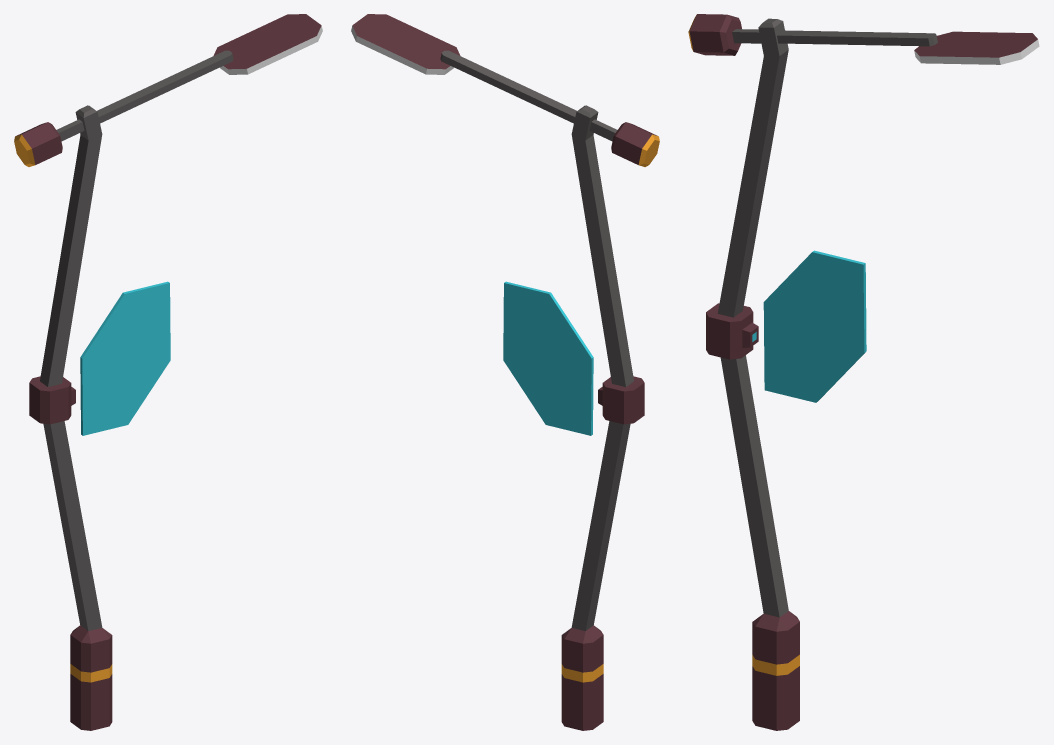
File: scifi-lamp-road-hologram.fbx
3 views of the same model, side by side, from view 1: azimuth 30°, elevation 25°; view 2: azimuth 150°, elevation 25°; view 3: azimuth 330°, elevation 25° (orthographic). The views are drawn at different scales.
Parts seen in each view (by area): view 1: scifi-lamp-road-hologram; view 2: scifi-lamp-road-hologram; view 3: scifi-lamp-road-hologram.
Part boxes in pixels (x1,y1,x2,y2): scifi-lamp-road-hologram: (14, 14, 322, 730); scifi-lamp-road-hologram: (351, 14, 659, 730); scifi-lamp-road-hologram: (688, 14, 1039, 730).
Bounding box in the file's own units: 4.46 × 9.34 × 0.7694.
